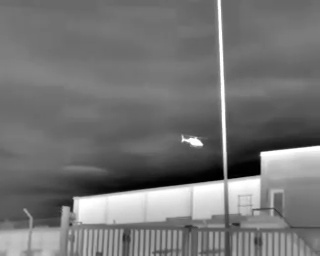HELICOPTER: (177, 129, 210, 153)
